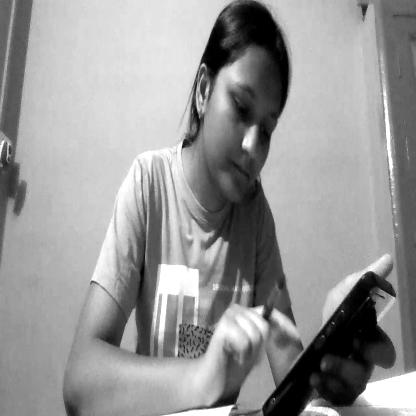Distracted: (200, 3, 290, 210)
